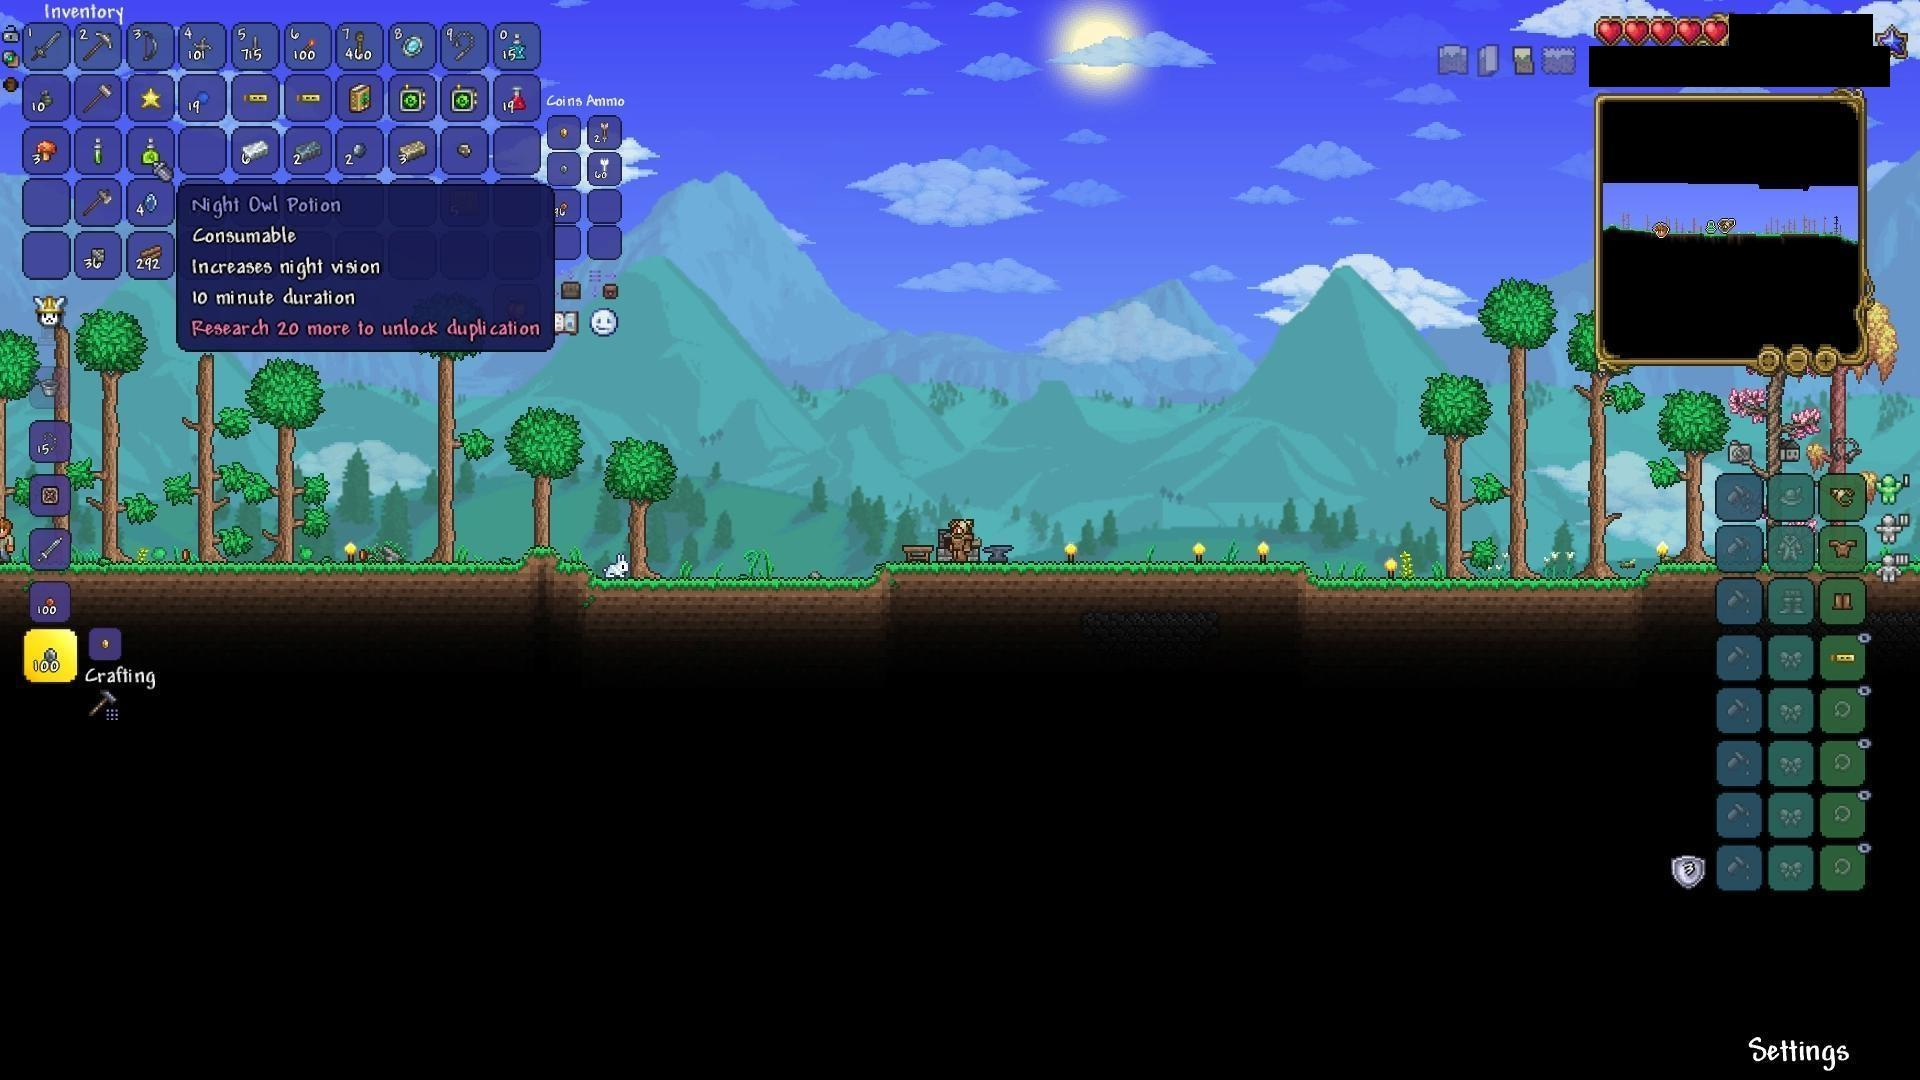dirt: (872, 558, 1323, 595), (80, 558, 518, 585), (1320, 570, 1642, 605), (580, 576, 880, 604), (514, 543, 595, 592)
heart: (1702, 17, 1733, 51), (1593, 16, 1626, 46), (1676, 15, 1704, 50), (1650, 16, 1676, 49), (1625, 15, 1651, 44)
tree: (1485, 268, 1553, 585), (75, 303, 148, 571), (1560, 320, 1625, 603), (1422, 372, 1489, 570), (255, 355, 310, 572), (178, 348, 225, 574), (1655, 402, 1717, 570), (497, 402, 568, 545), (600, 430, 669, 578)
